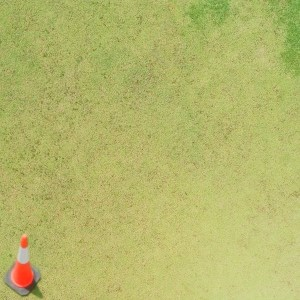traffic cone: (3, 233, 41, 297)
